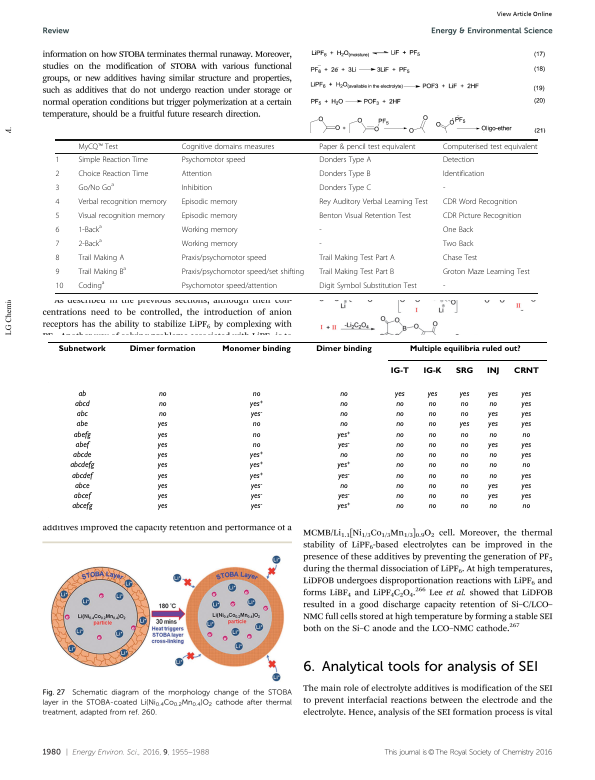borderless: (46, 340, 548, 519), (55, 138, 538, 293)
cell: (181, 267, 305, 277), (318, 197, 429, 207), (408, 345, 521, 354), (318, 281, 418, 291), (181, 281, 278, 291), (318, 211, 412, 221), (77, 197, 167, 207), (77, 211, 166, 221), (442, 267, 531, 277), (318, 142, 416, 151), (442, 142, 538, 151), (181, 253, 267, 263), (181, 142, 275, 151), (442, 211, 523, 221), (318, 253, 396, 263), (318, 267, 395, 277), (442, 197, 518, 207), (77, 155, 149, 165), (77, 169, 149, 179), (181, 155, 246, 165), (221, 345, 291, 354), (128, 345, 196, 354), (77, 265, 127, 277), (181, 225, 239, 235), (181, 239, 239, 249), (181, 197, 238, 207), (181, 211, 238, 221), (318, 155, 372, 165), (318, 183, 372, 193), (318, 169, 371, 179), (315, 345, 372, 354), (77, 253, 125, 263), (77, 181, 115, 193), (57, 345, 106, 354), (442, 169, 485, 179), (77, 142, 119, 151), (442, 253, 478, 263), (77, 279, 105, 291), (442, 155, 475, 165), (181, 169, 213, 179), (181, 183, 213, 193), (442, 225, 474, 235), (442, 239, 474, 249), (77, 223, 103, 235), (77, 237, 103, 249), (513, 367, 539, 376), (69, 461, 95, 470), (70, 471, 93, 481), (71, 502, 93, 511), (72, 430, 91, 440), (389, 367, 409, 376), (422, 367, 442, 376), (454, 367, 474, 376), (72, 451, 92, 460), (72, 492, 91, 501), (73, 399, 90, 409), (73, 481, 90, 491), (74, 440, 90, 450), (249, 399, 264, 409), (336, 430, 351, 440), (249, 471, 264, 481), (249, 481, 263, 491), (485, 367, 500, 376), (249, 451, 264, 460), (249, 461, 264, 470), (336, 461, 351, 470), (336, 502, 351, 511), (337, 440, 350, 450), (337, 471, 350, 481), (249, 410, 263, 419), (249, 492, 263, 501), (249, 502, 263, 511), (426, 389, 438, 399), (458, 389, 470, 399), (520, 389, 532, 399), (520, 399, 532, 409), (156, 430, 168, 440), (156, 440, 168, 450), (520, 440, 532, 450), (156, 471, 168, 481), (520, 471, 532, 481), (156, 481, 168, 491), (520, 481, 532, 491), (75, 410, 88, 419), (75, 420, 88, 429), (337, 492, 350, 501), (394, 389, 405, 399), (487, 389, 498, 399), (487, 440, 498, 450), (487, 481, 498, 491), (520, 410, 532, 419), (156, 420, 168, 429), (458, 420, 470, 429), (520, 420, 532, 429), (156, 451, 168, 460), (520, 451, 532, 460), (156, 461, 168, 470), (156, 492, 168, 501), (520, 492, 532, 501), (156, 502, 168, 511), (77, 389, 87, 399), (157, 389, 167, 399), (251, 389, 261, 399), (157, 399, 167, 409), (427, 399, 437, 409), (459, 399, 469, 409), (251, 430, 261, 440), (427, 430, 437, 440), (459, 430, 469, 440), (521, 430, 531, 440), (251, 440, 261, 450), (427, 440, 437, 450), (459, 440, 469, 450), (427, 471, 437, 481), (459, 471, 469, 481), (427, 481, 437, 491), (459, 481, 469, 491), (487, 410, 498, 419), (487, 420, 498, 429), (487, 492, 498, 501), (339, 389, 348, 399), (339, 399, 348, 409), (395, 399, 404, 409), (488, 399, 497, 409), (157, 410, 167, 419), (427, 410, 437, 419), (459, 410, 469, 419), (251, 420, 261, 429), (427, 420, 437, 429), (395, 430, 404, 440), (488, 430, 497, 440), (395, 440, 404, 450), (427, 451, 437, 460), (459, 451, 469, 460), (427, 461, 437, 470), (459, 461, 469, 470), (521, 461, 531, 470), (395, 471, 404, 481), (488, 471, 497, 481), (339, 481, 348, 491), (395, 481, 404, 491), (427, 492, 437, 501), (459, 492, 469, 501), (427, 502, 437, 511), (459, 502, 469, 511), (521, 502, 531, 511), (55, 281, 64, 291), (339, 410, 348, 419), (395, 410, 404, 419), (339, 420, 348, 429), (395, 420, 404, 429), (339, 451, 348, 460), (395, 451, 404, 460), (488, 451, 497, 460), (395, 461, 404, 470), (488, 461, 497, 470), (395, 492, 404, 501), (395, 502, 404, 511), (488, 502, 497, 511), (54, 155, 60, 165), (54, 169, 60, 179), (54, 183, 60, 193), (55, 197, 60, 207), (55, 211, 60, 221), (55, 225, 60, 235), (318, 225, 323, 235), (55, 239, 60, 249), (318, 239, 323, 249), (55, 253, 60, 263), (55, 267, 60, 277), (442, 183, 446, 193), (442, 281, 446, 291)
